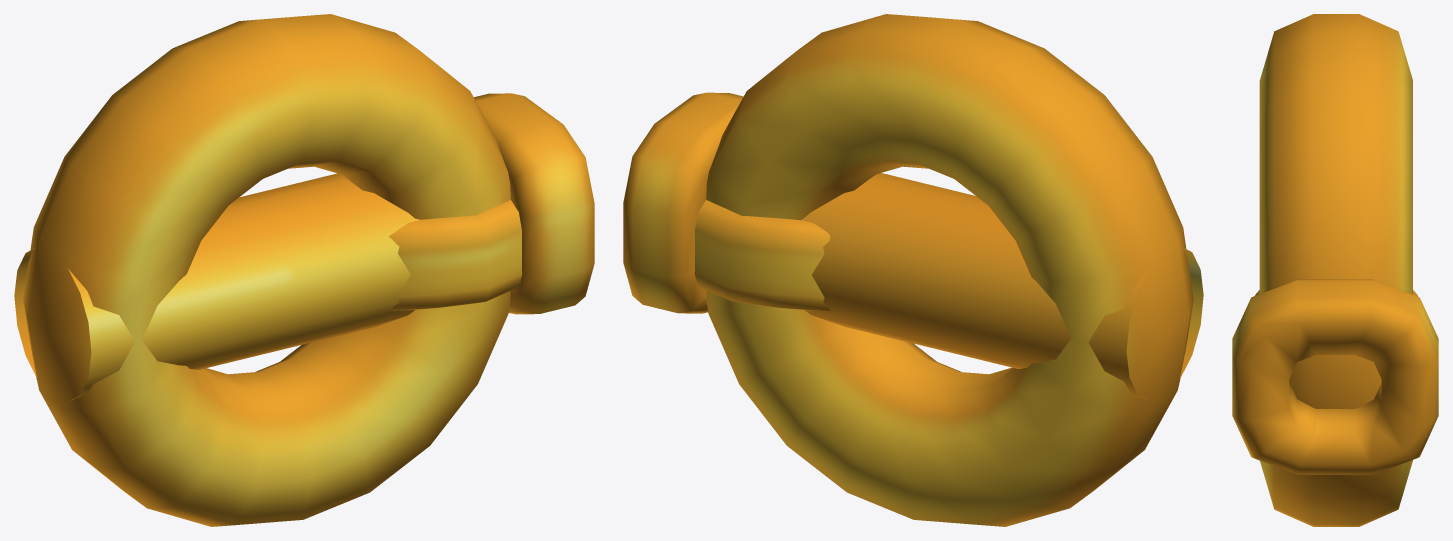
File: LockBar.fbx
The picture shows the model from 3 angles, left to right: view 1: azimuth 30°, elevation 25°; view 2: azimuth 150°, elevation 25°; view 3: azimuth 270°, elevation 25°; orthographic projection. The views are drawn at different scales.
Parts seen in each view (by area): view 1: LockBar_Circle, LockBar_last; view 2: LockBar_Circle, LockBar_last; view 3: LockBar_Circle.
Boxes of the visible parts, x1,y1,x2,y2 form: LockBar_Circle: [23, 14, 594, 526]; LockBar_last: [14, 173, 419, 400]; LockBar_Circle: [623, 14, 1193, 526]; LockBar_last: [802, 173, 1203, 399]; LockBar_Circle: [1232, 14, 1438, 526].
Size of the model in its own units: 165 by 150 by 60.05.
